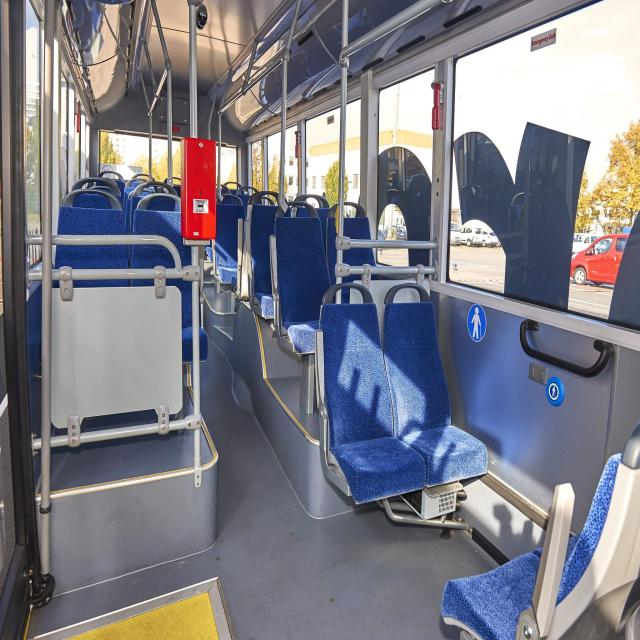empty-seat-frontal: (316, 282, 424, 506), (379, 282, 489, 490)
